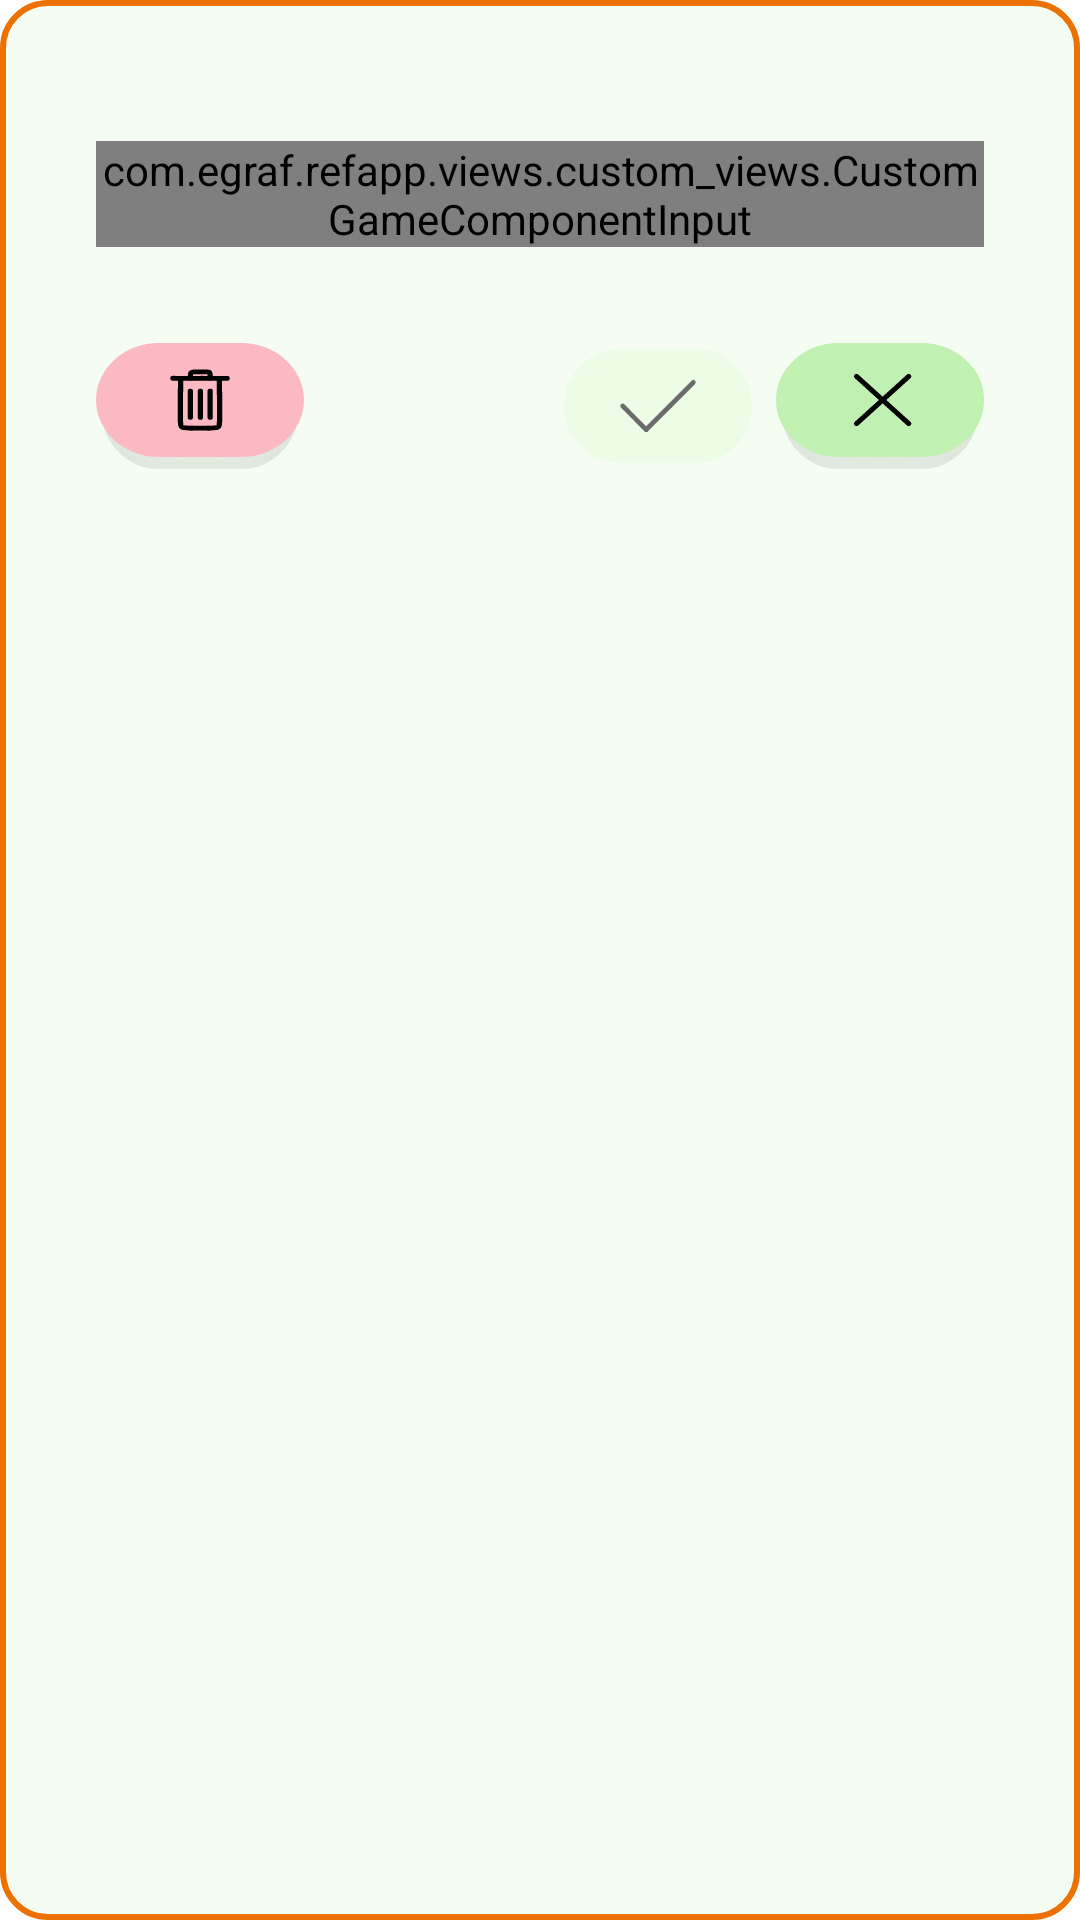

Screen size 1080x1920. Icon name, then its center in pixels as point (x, y):
Save game: point (658, 406)
